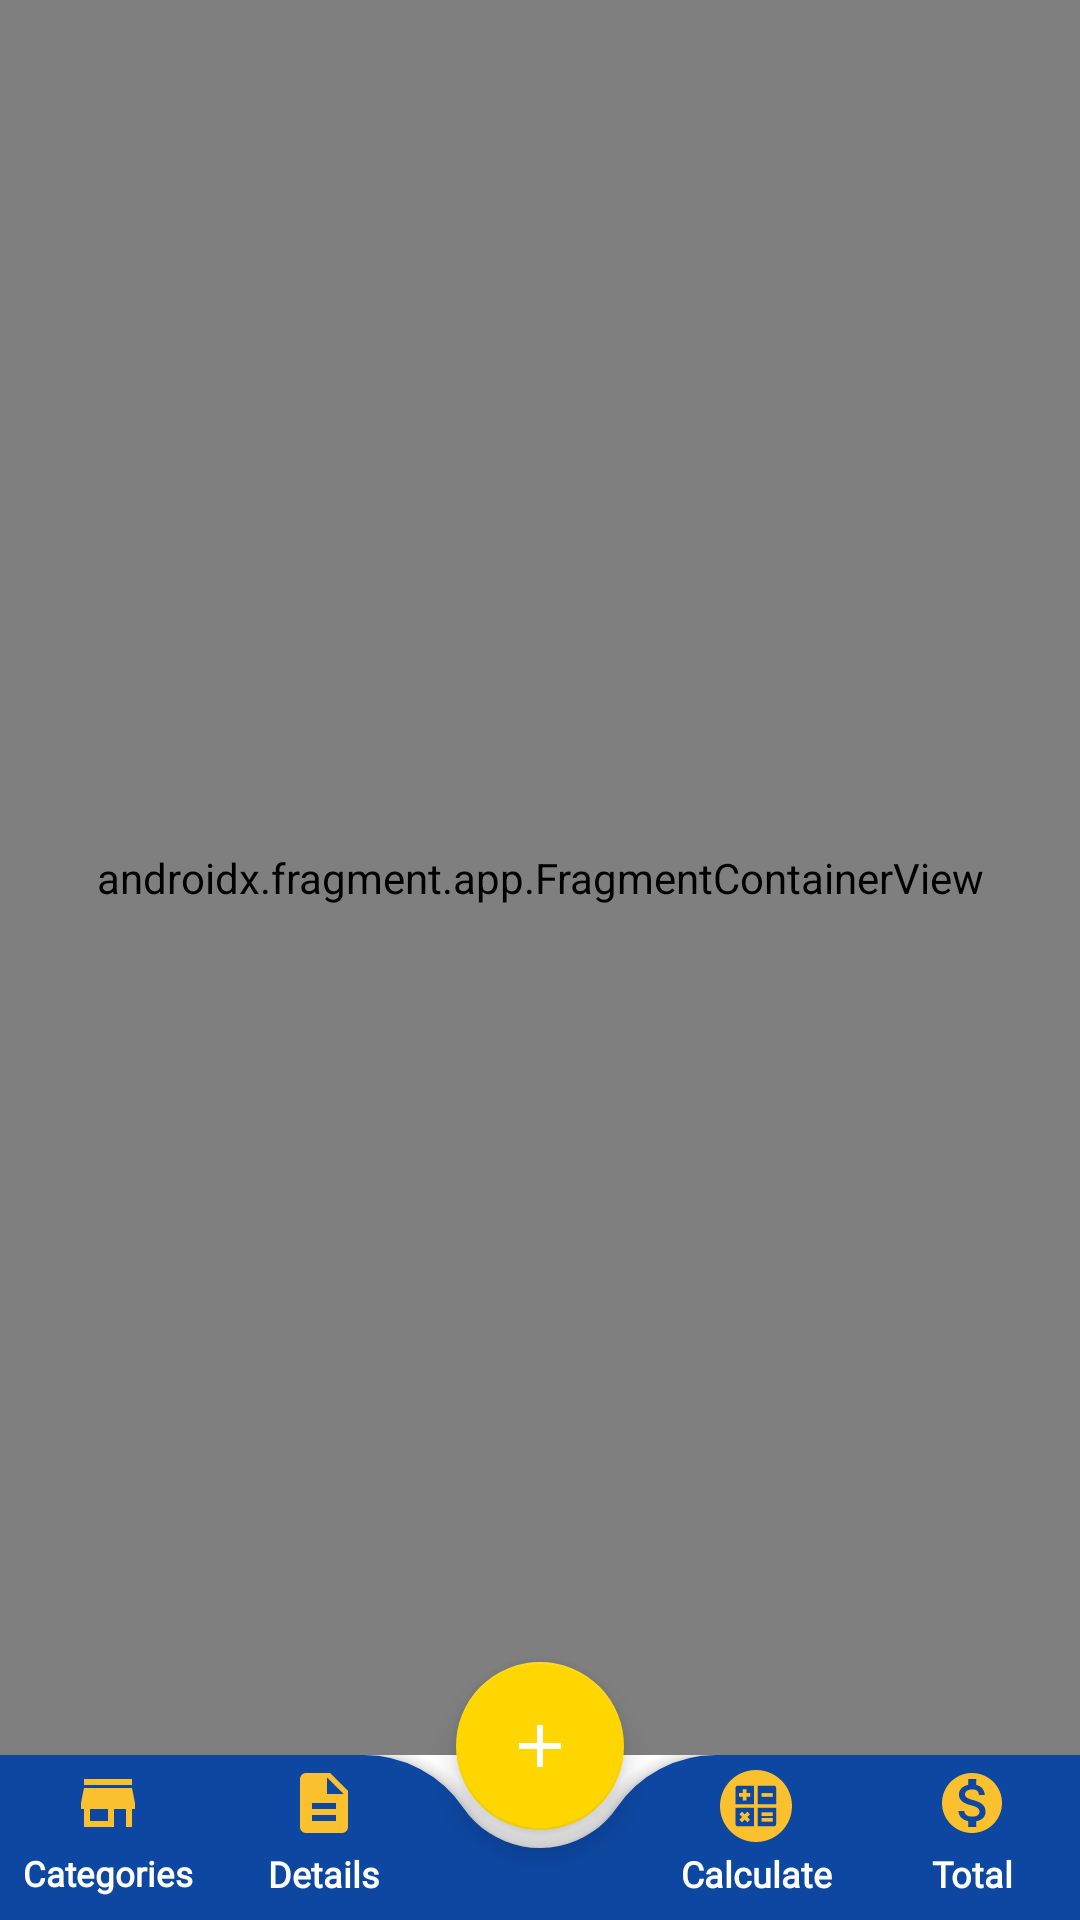

Icons on this 1080px x 1920px Android screen, each with the point to tap as [x,y]:
Add Expenses: [540,1746]
